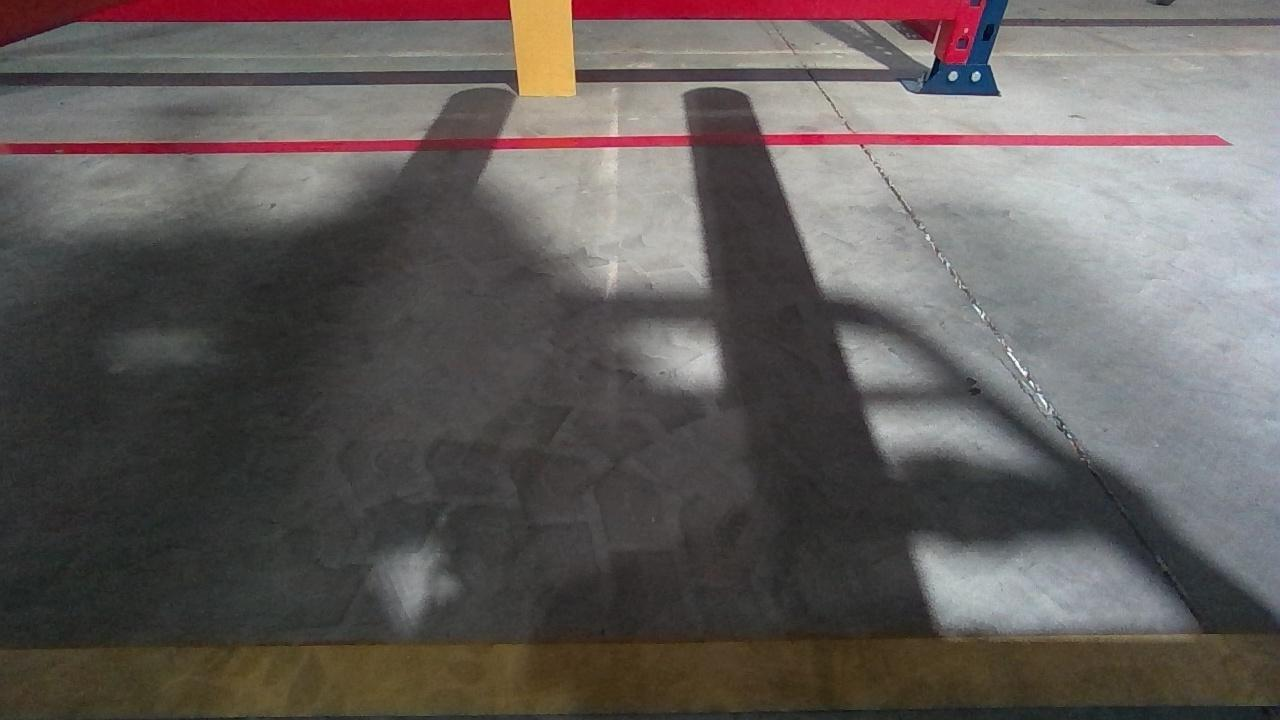h_rack: (7, 0, 968, 22)
orange_strip: (507, 0, 576, 96)
red_line: (1, 133, 1229, 154)
yellow_line: (0, 632, 1280, 717)
